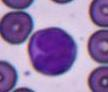M: (28, 27, 78, 75)
